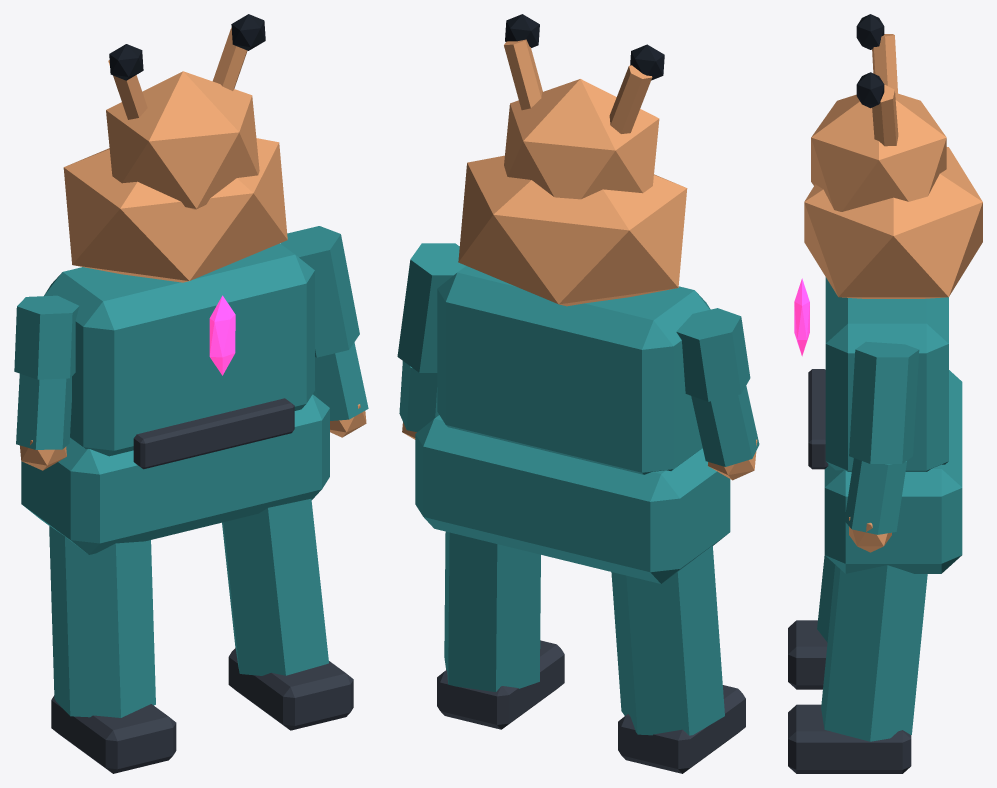
The model's file is npcs_005_seed11.glb.
3 renders of one model, left to right at view 1: azimuth 30°, elevation 25°; view 2: azimuth 150°, elevation 25°; view 3: azimuth 270°, elevation 25°, orthographic. The views are drawn at different scales.
Parts seen in each view (by area): view 1: npcs_005_seed11; view 2: npcs_005_seed11; view 3: npcs_005_seed11.
Boxes of the visible parts, x1,y1,x2,y2 form: npcs_005_seed11: (14, 14, 368, 773); npcs_005_seed11: (397, 14, 759, 773); npcs_005_seed11: (788, 14, 982, 773).
Bounding box in the file's own units: 0.9308 × 1.78 × 0.4658.
